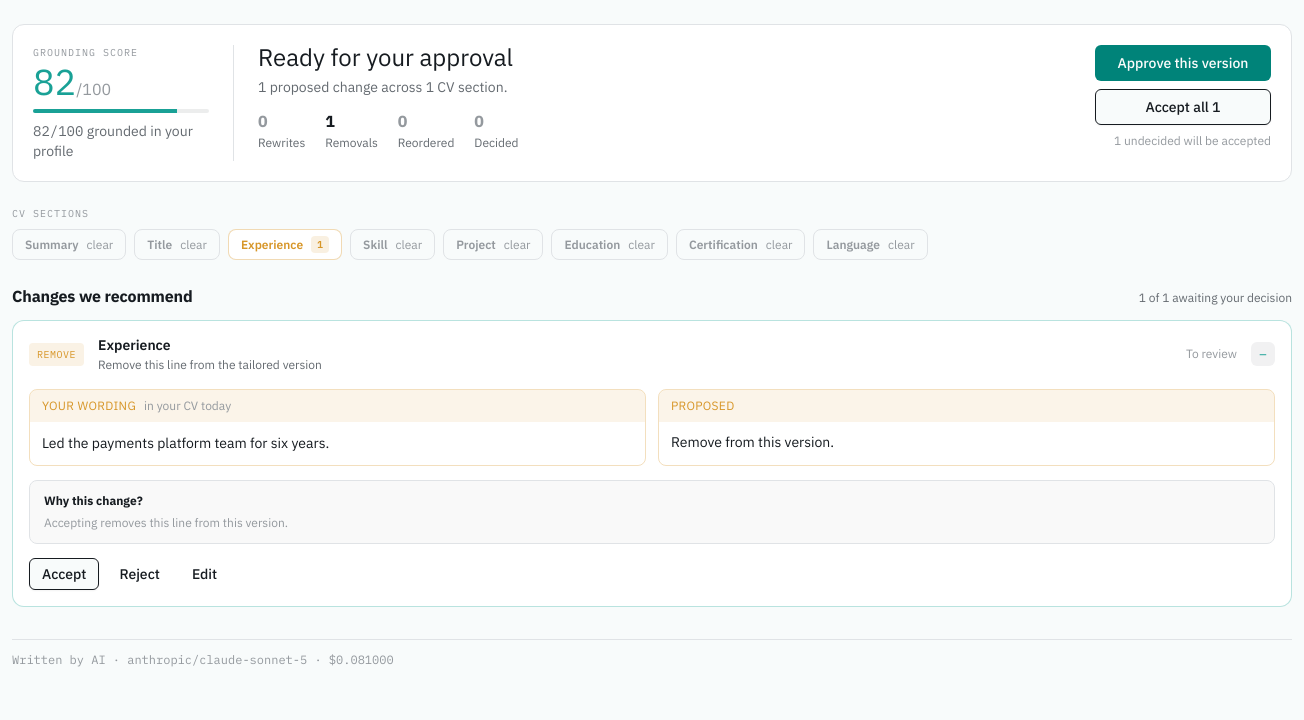
a proposed drop › shows the owner's words after a drop is edited
Click the button "Edit" at {"x": 205, "y": 574}, box [180, 558, 229, 590]
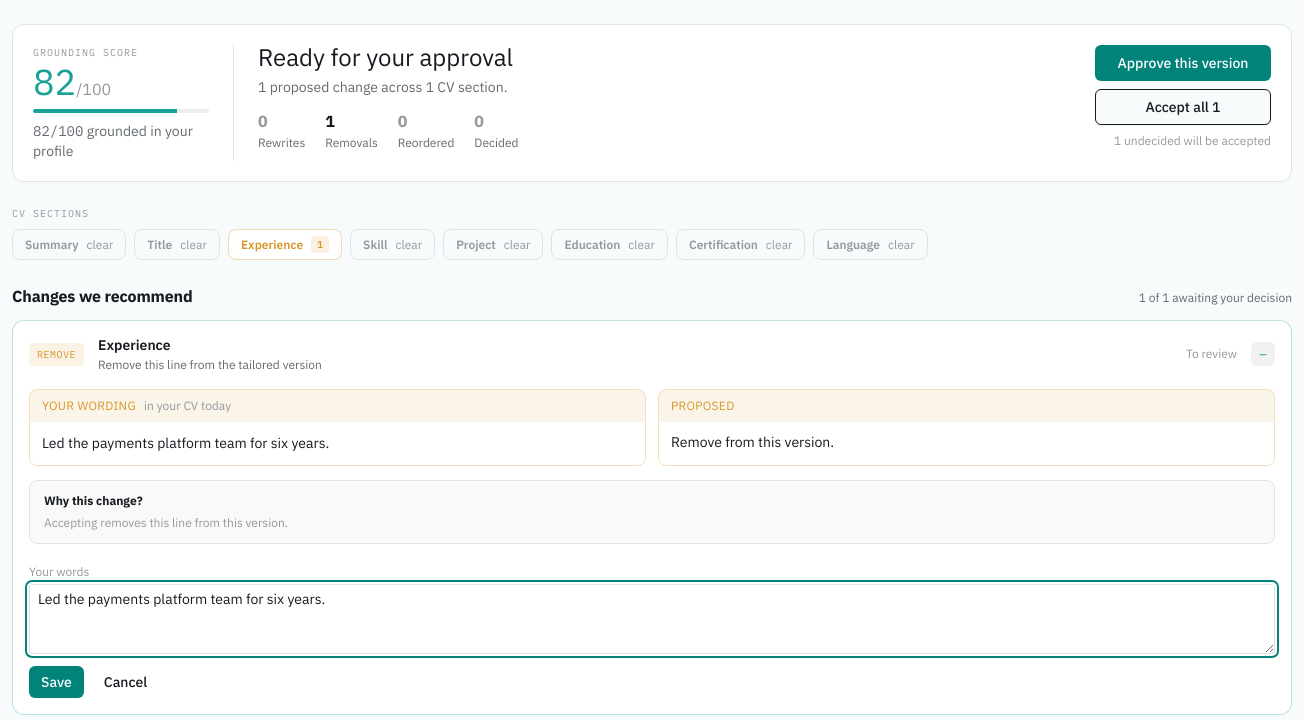
Click the button "Save" at {"x": 56, "y": 682}, box [29, 666, 84, 698]
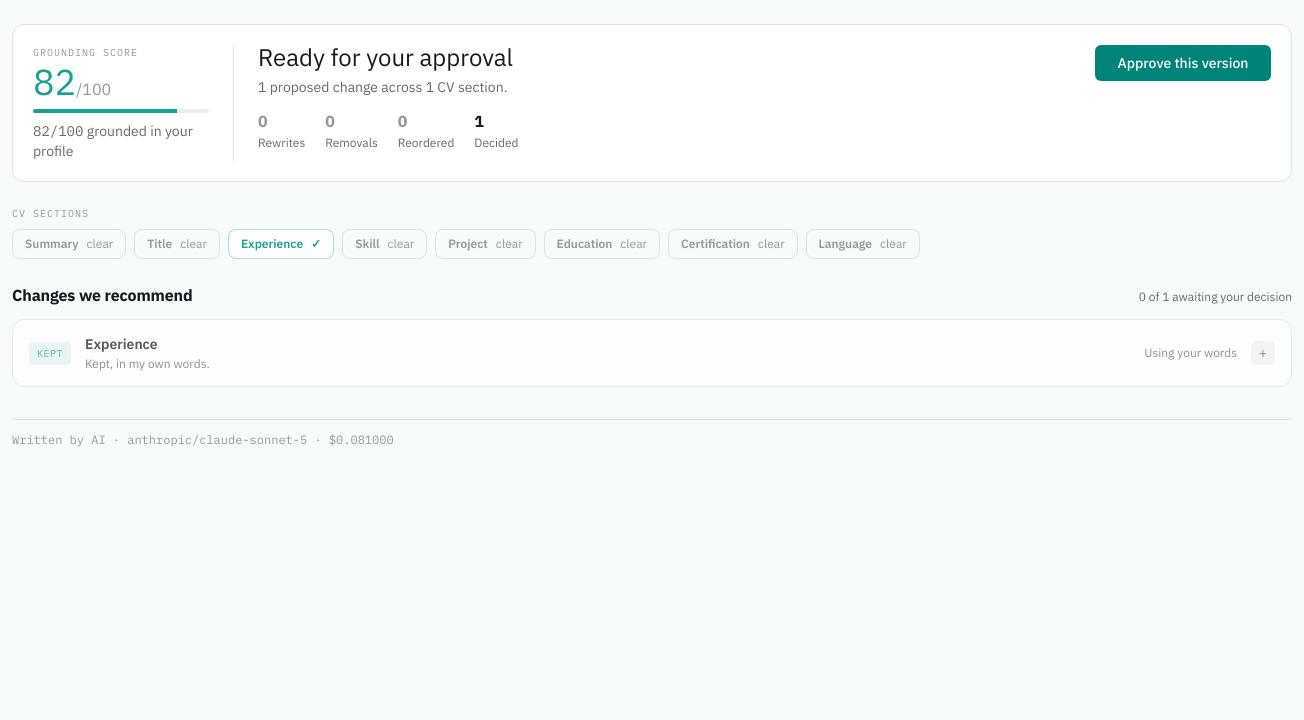
Result: the text with test id "decision-label" reads "Using your words" at [1144, 345, 1237, 360]
Result: the list item with test id "diff-item" shows "Kept, in my own words." at [13, 320, 1291, 386]
Result: the text with test id "diff-item" no longer shows "Led the payments platform team for six years."
